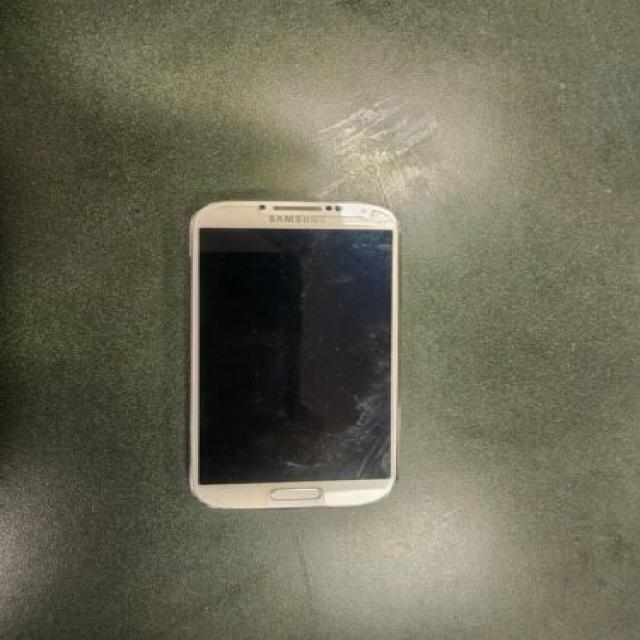Crack: (323, 377, 410, 512)
